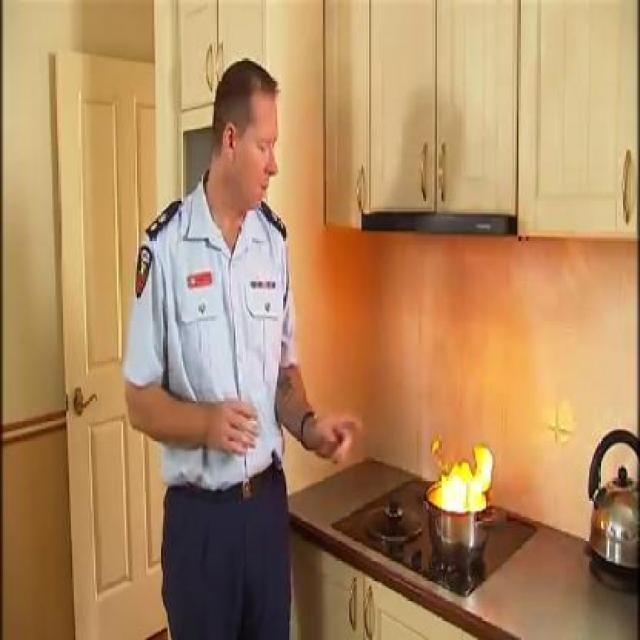fire: (424, 434, 502, 506)
